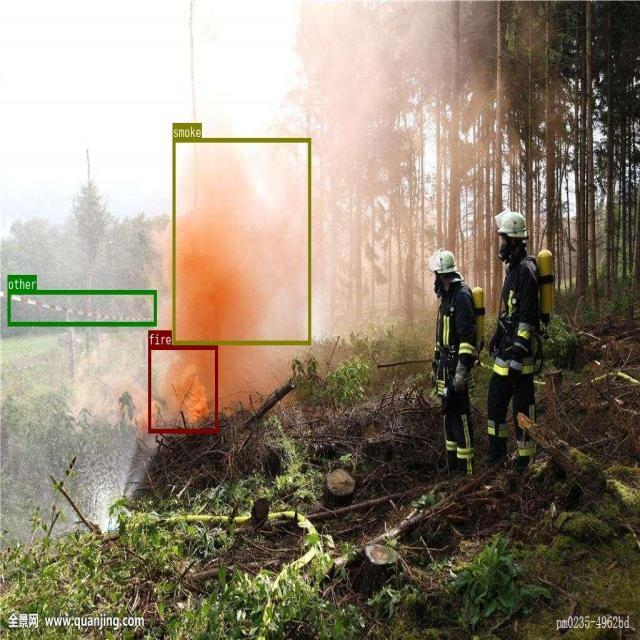fire: (148, 345, 217, 433)
smoke: (173, 137, 311, 344)
